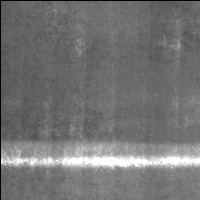scratches: (1, 142, 200, 169)
